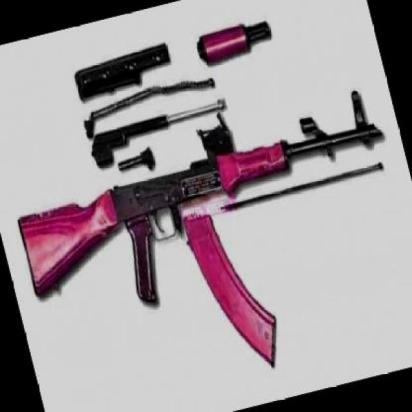Gun: (0, 79, 412, 412)
